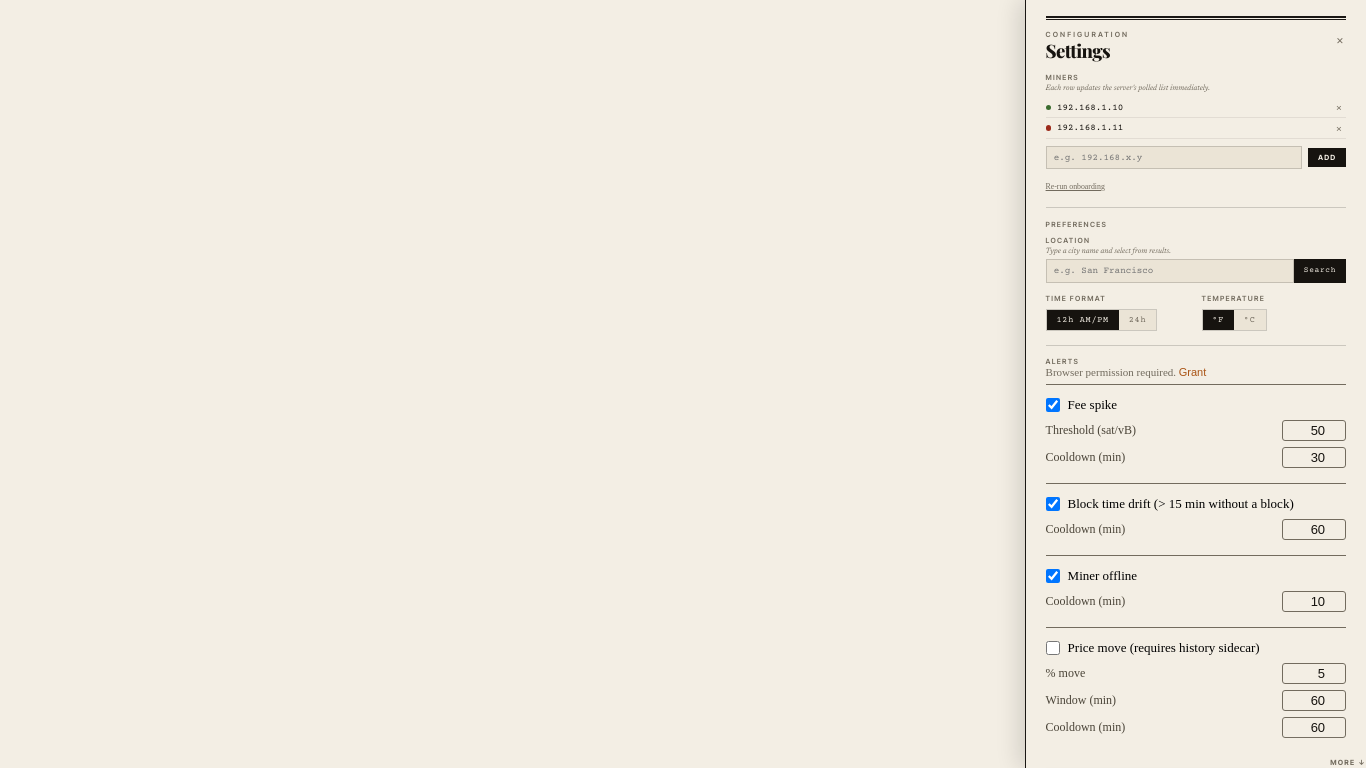
Test: SettingsPanel — Miners (row-based) › surfaces server validation errors verbatim
The image size is (1366, 768).
Click the button named "Remove 192.168.1.10": (1339, 108) [1332,102,1346,113]
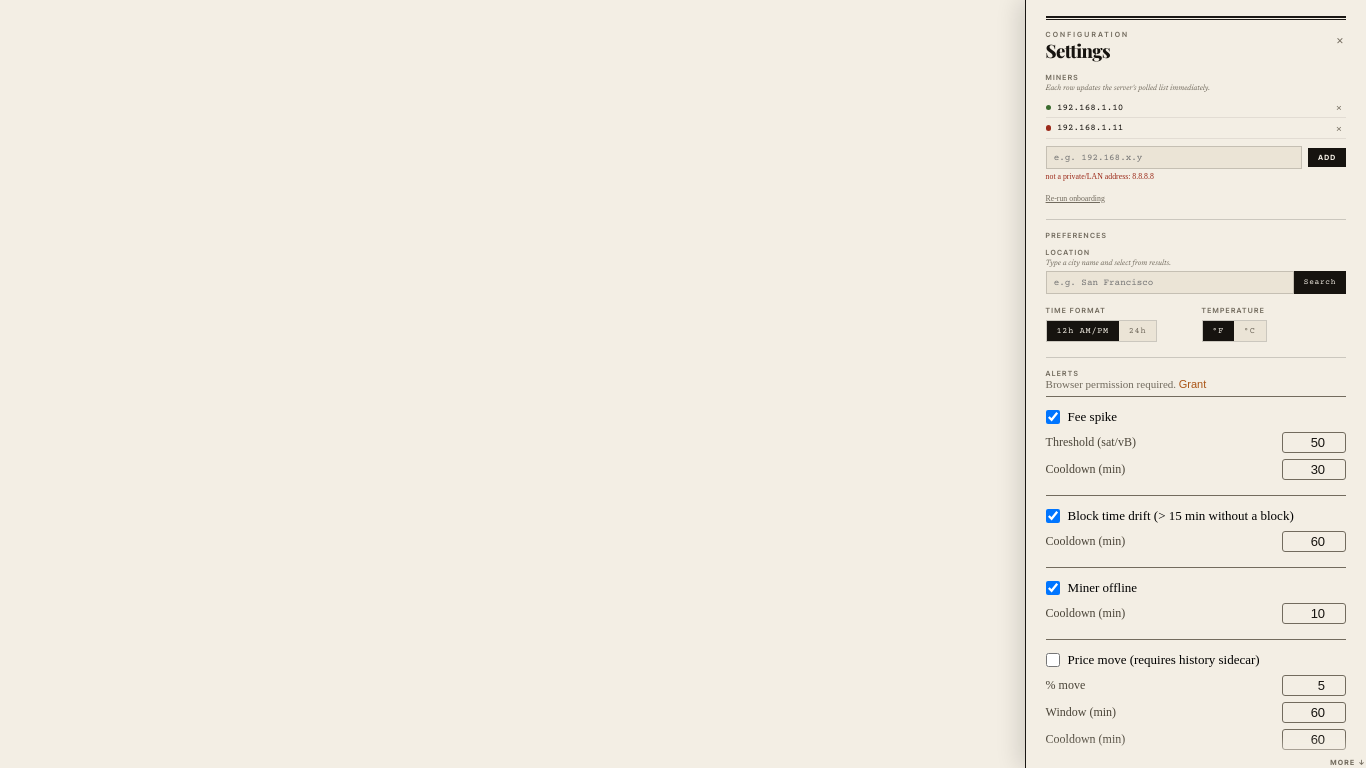
Now the text "not a private/LAN address: 8.8.8.8" is shown, box [1046,172,1154,181]
